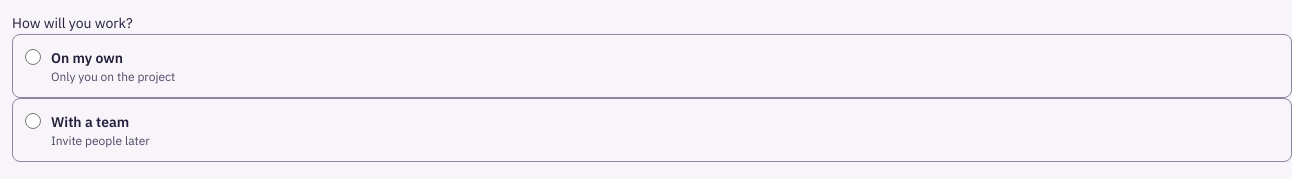
Test: ChoiceCard › acts as one radio in its group
The image size is (1292, 179).
Click the text "With a team".
click(90, 122)  # box [51, 113, 129, 131]
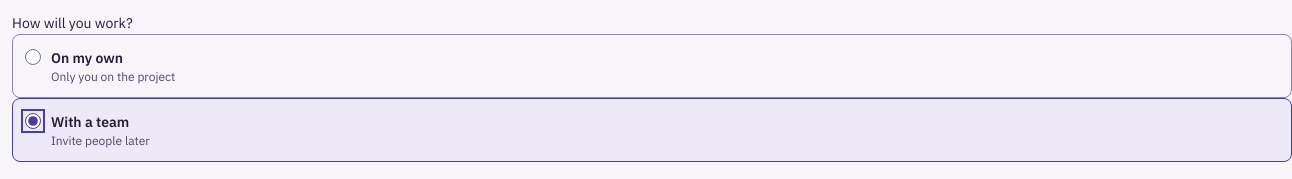
Check: the radio button labelled "On my own" is not checked, box [25, 49, 41, 65]
Check: the radio button labelled "With a team" is checked, box [25, 113, 41, 129]
